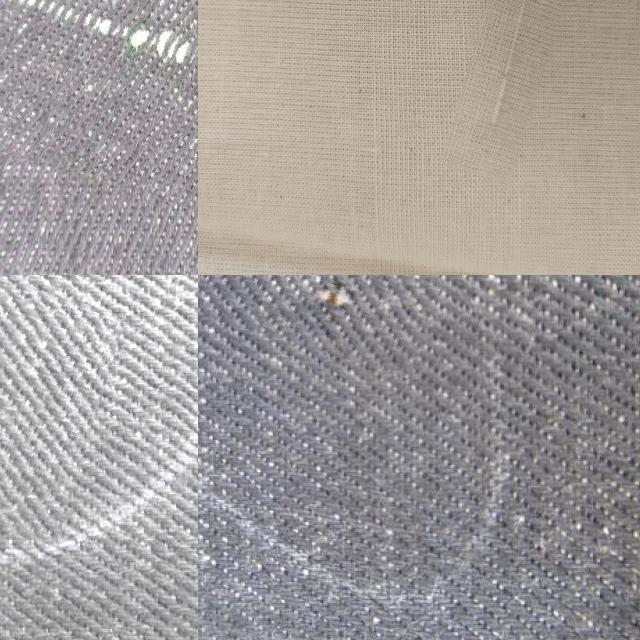Thread_other: (0, 275, 112, 524), (459, 0, 574, 183), (198, 275, 435, 363)
